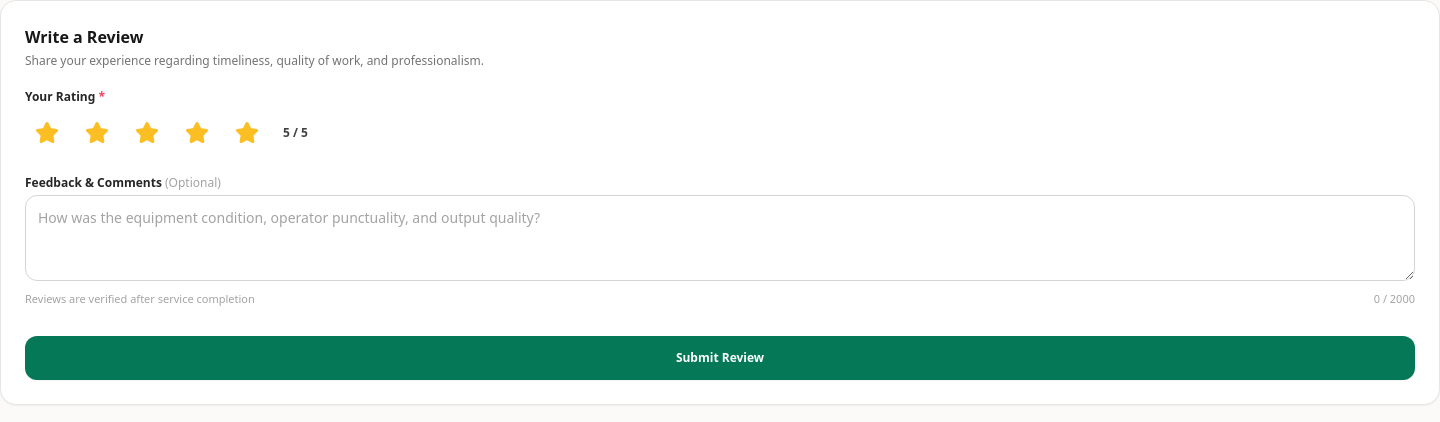
Scenario: Phase 1.2 — Step 5B: Shared Frontend Components › 9. ReviewForm › allows updating rating and tracks character count
Click the radio button named "4 stars".
click(197, 133)  # box [175, 111, 219, 155]
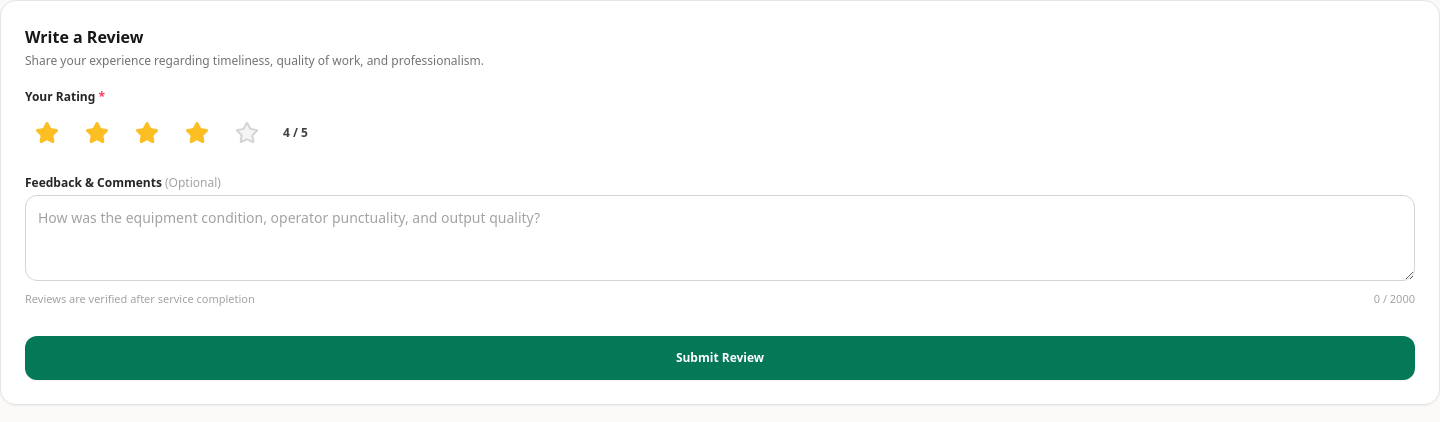
Check: the text "4 / 5" is shown, box [283, 125, 308, 141]
Replace the text in the text box labelled "Feedback & Comments (Optional)" with "Great work on our maize farm." at (720, 238), box [25, 195, 1415, 281]
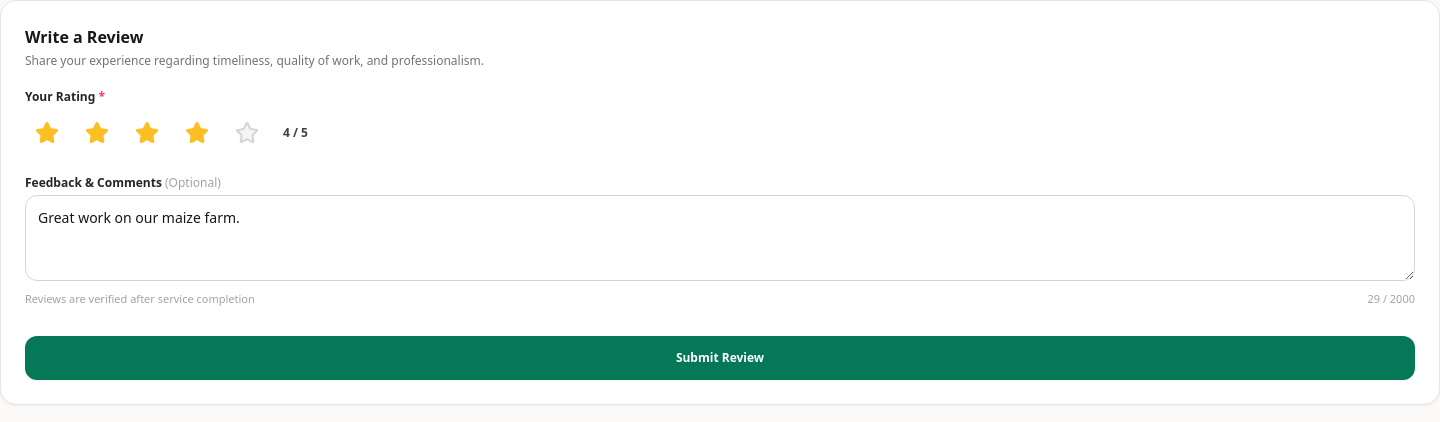
Check: the text "29 / 2000" is shown, box [1367, 291, 1415, 308]
